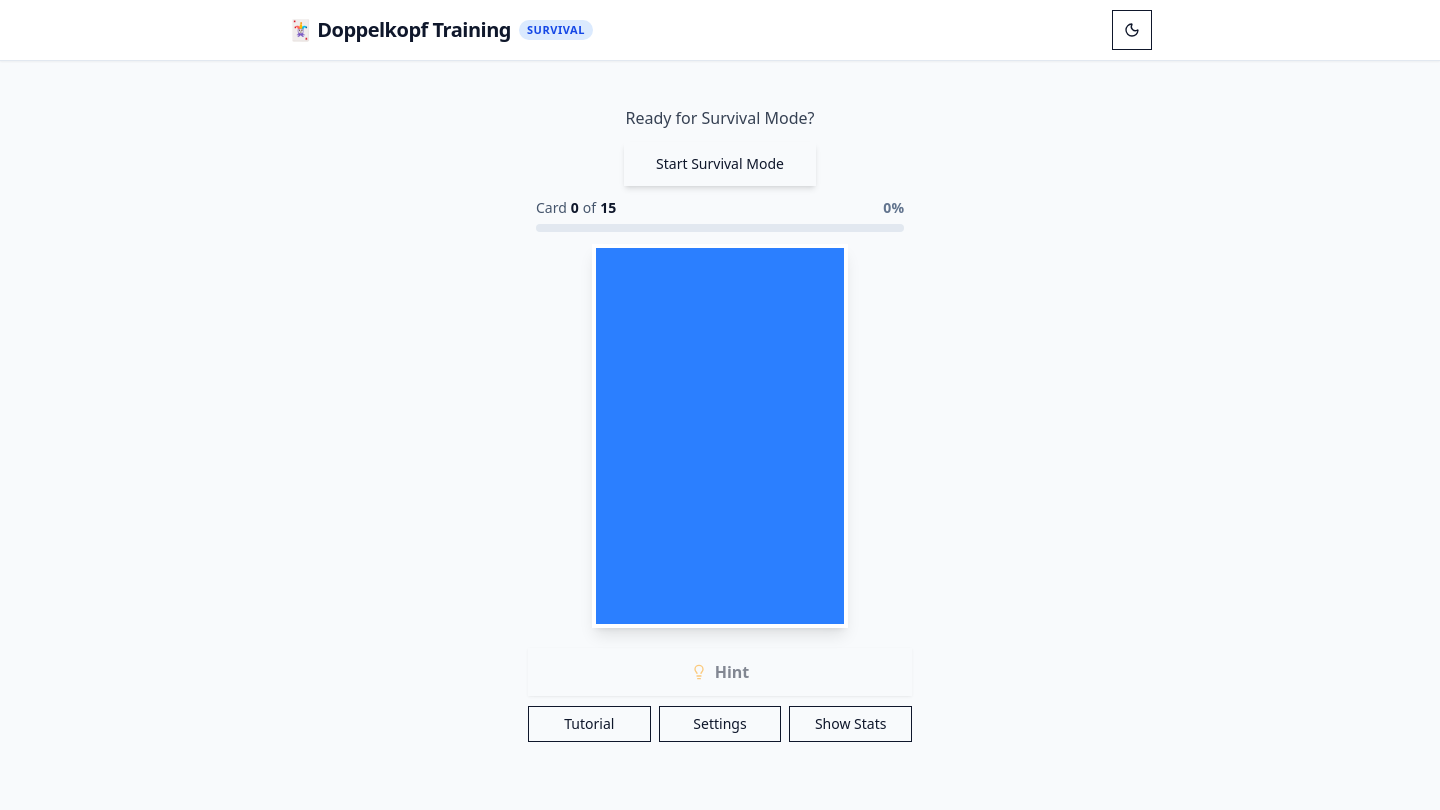
Test: DoppelkopfGame › does not allow cards to be revealed before a survival game starts
Check: the button with test id "game-card" is disabled, box left=592, top=244, right=848, bottom=628
Click the button "Start Survival Mode" at (720, 164), box left=624, top=142, right=816, bottom=186
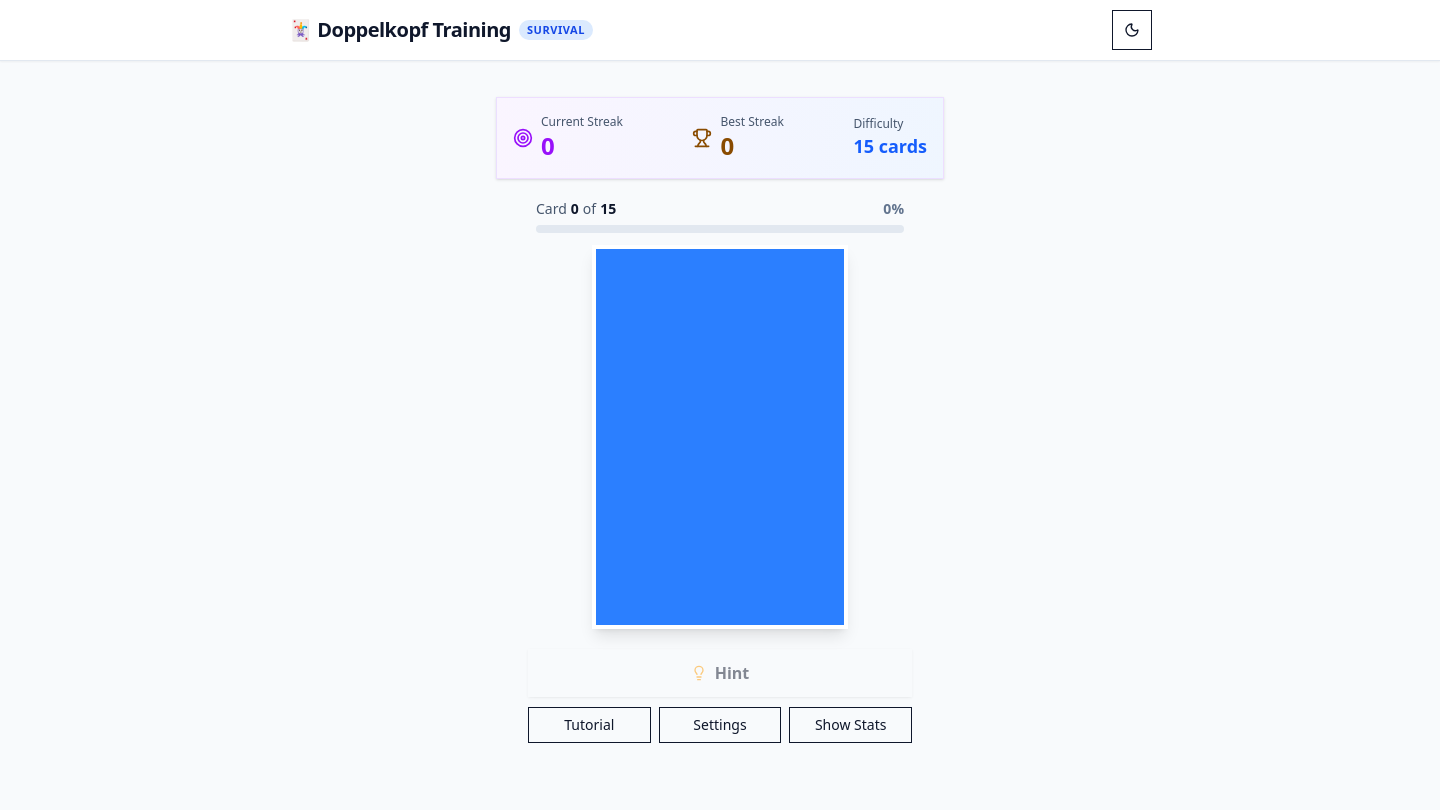
Check: the button with test id "game-card" is enabled, box left=592, top=244, right=848, bottom=628
